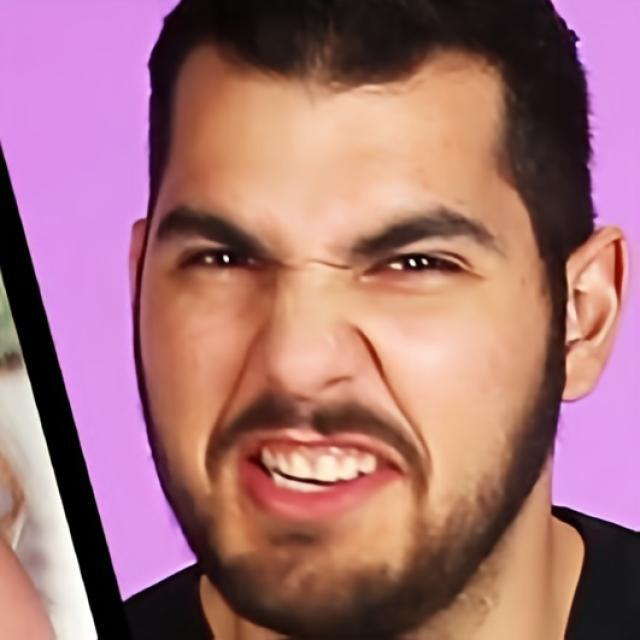disgust: (135, 33, 566, 640)
